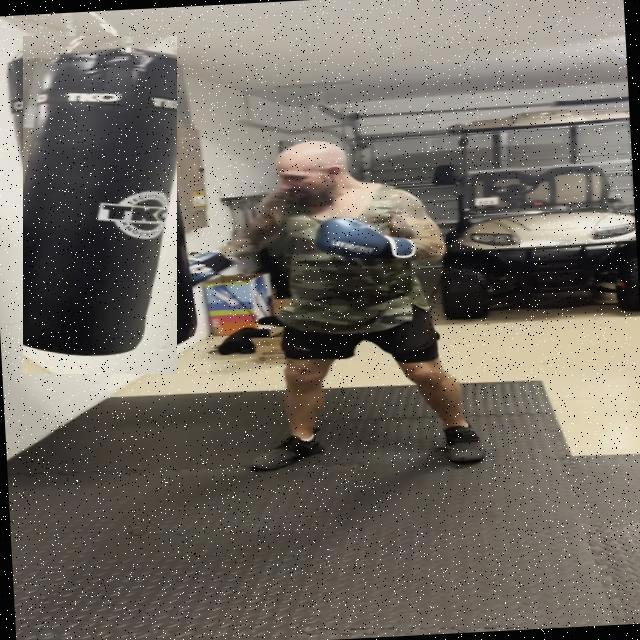punch: (138, 126, 438, 302)
